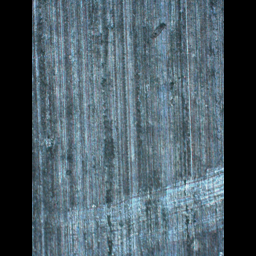d: (53, 164, 222, 255)
